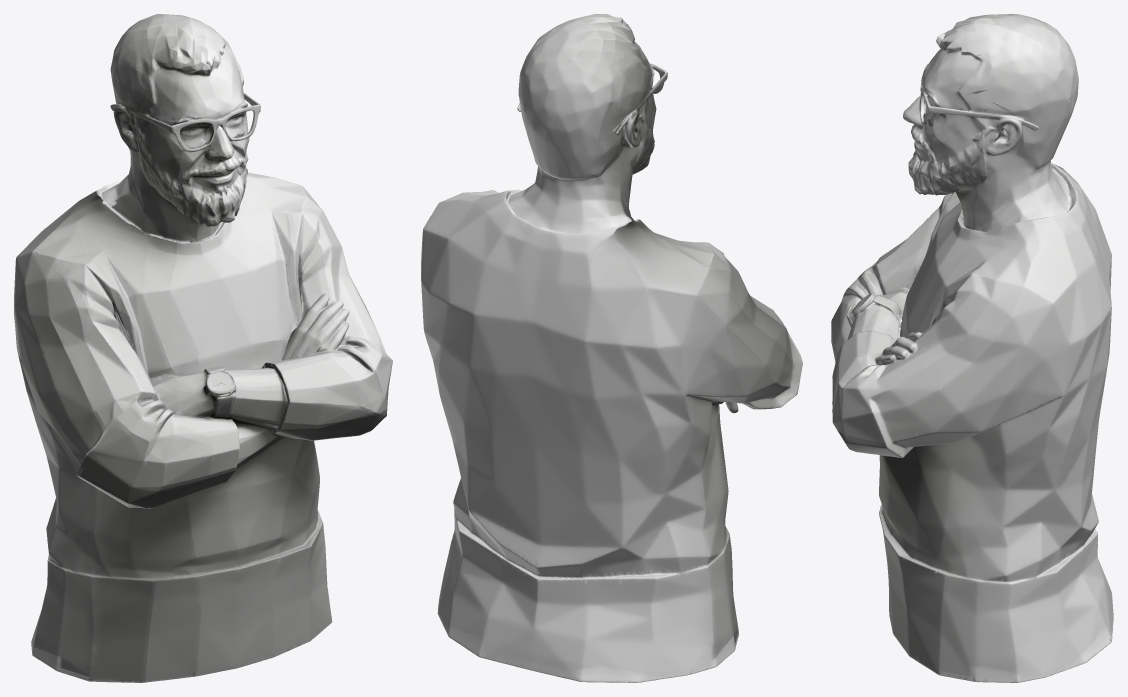
Rendered from cd-texture.glb.
3 renders of one model, left to right at view 1: azimuth 30°, elevation 25°; view 2: azimuth 150°, elevation 25°; view 3: azimuth 270°, elevation 25°, orthographic.
Size of the model in its own units: 1.05 by 1.9 by 0.8128.
Materials: 1 (1 with a texture image).
